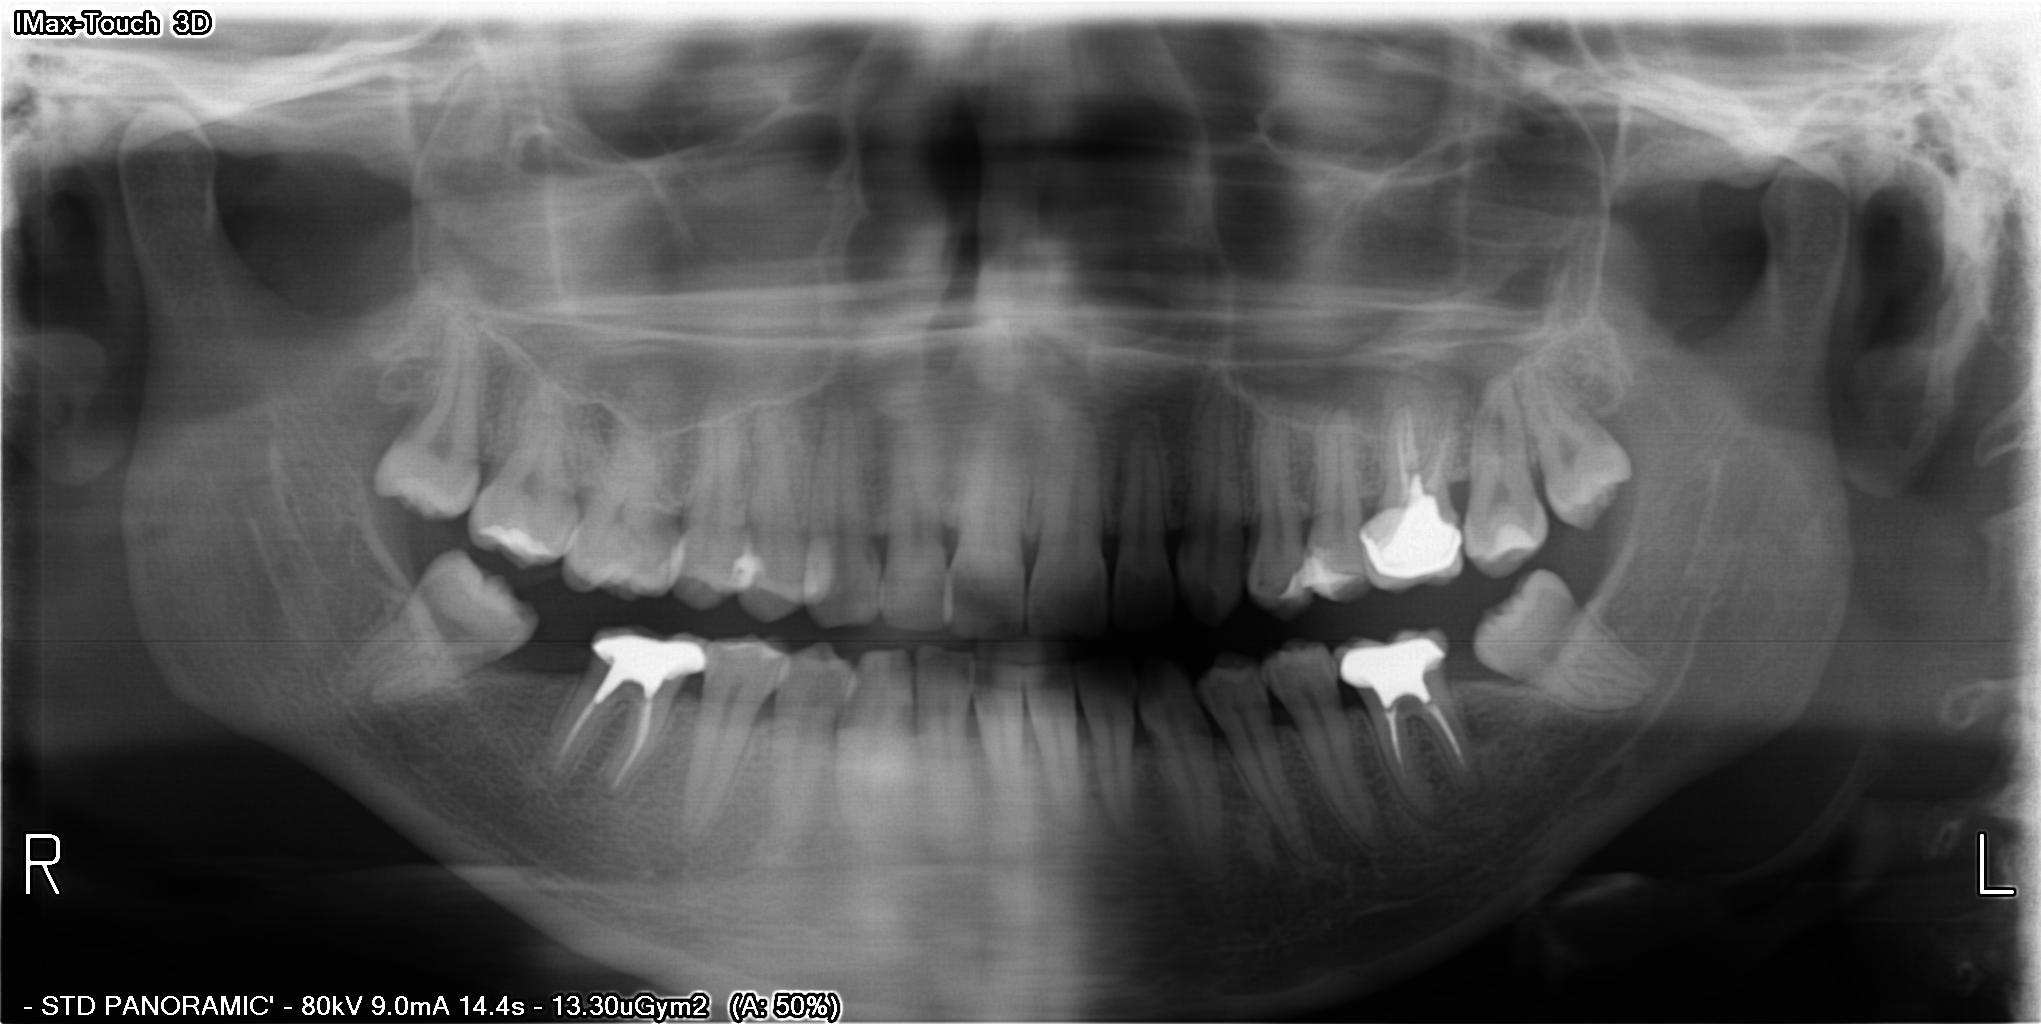Çürük: (1350, 465, 1468, 581), (1322, 631, 1464, 720), (576, 624, 715, 710), (472, 508, 566, 574), (1281, 538, 1348, 604), (1474, 506, 1540, 566)
